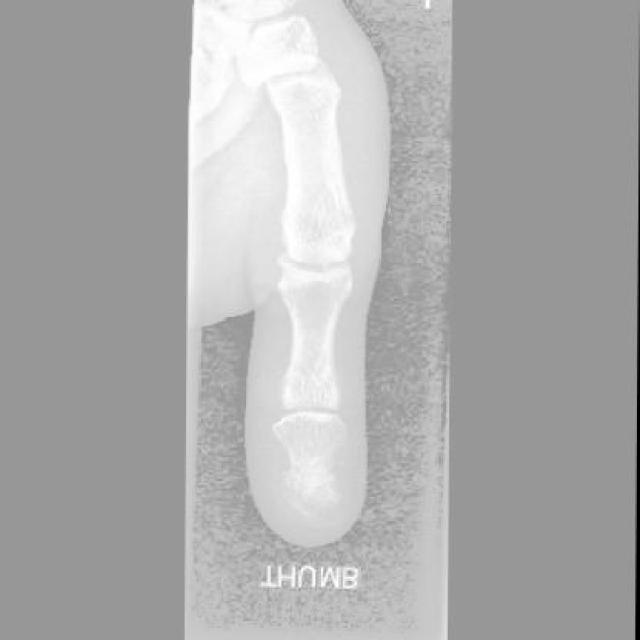Fracture: (280, 468, 342, 525)
